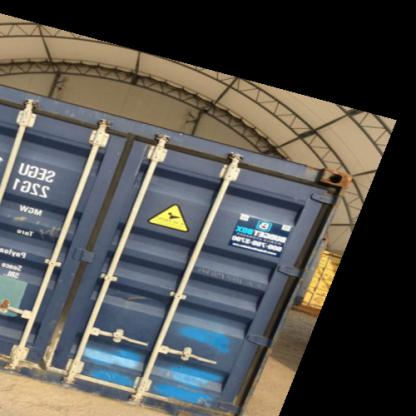Damage: (32, 312, 78, 375), (136, 390, 212, 408)
